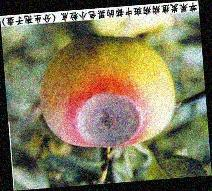rotten apple: (39, 36, 176, 150)
